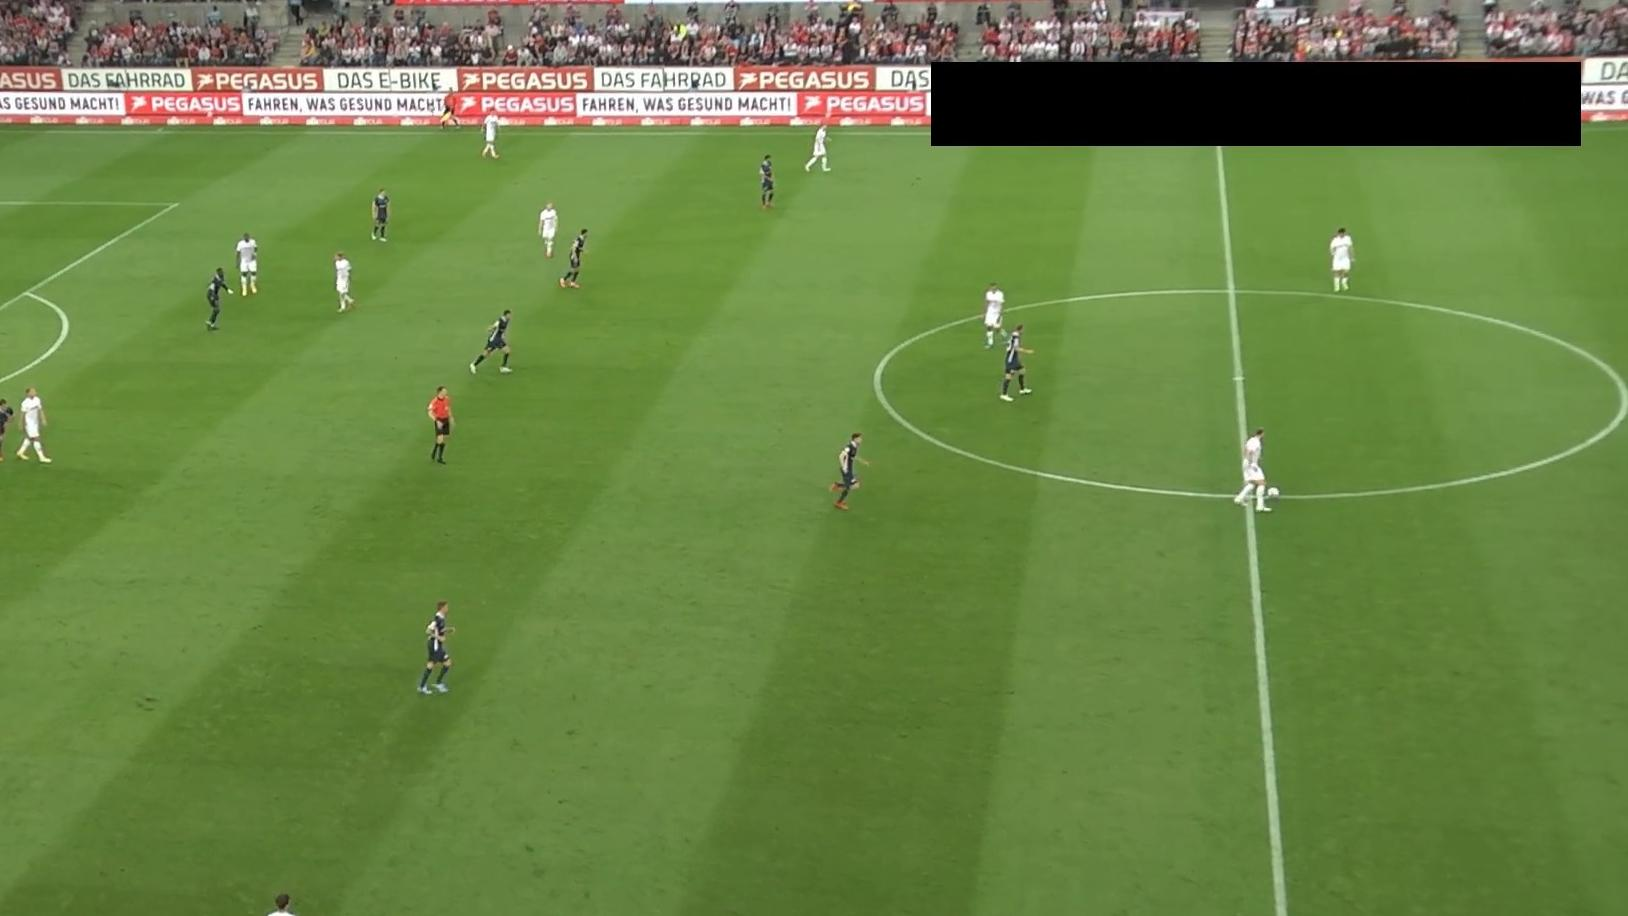ball: (1267, 486, 1280, 501)
